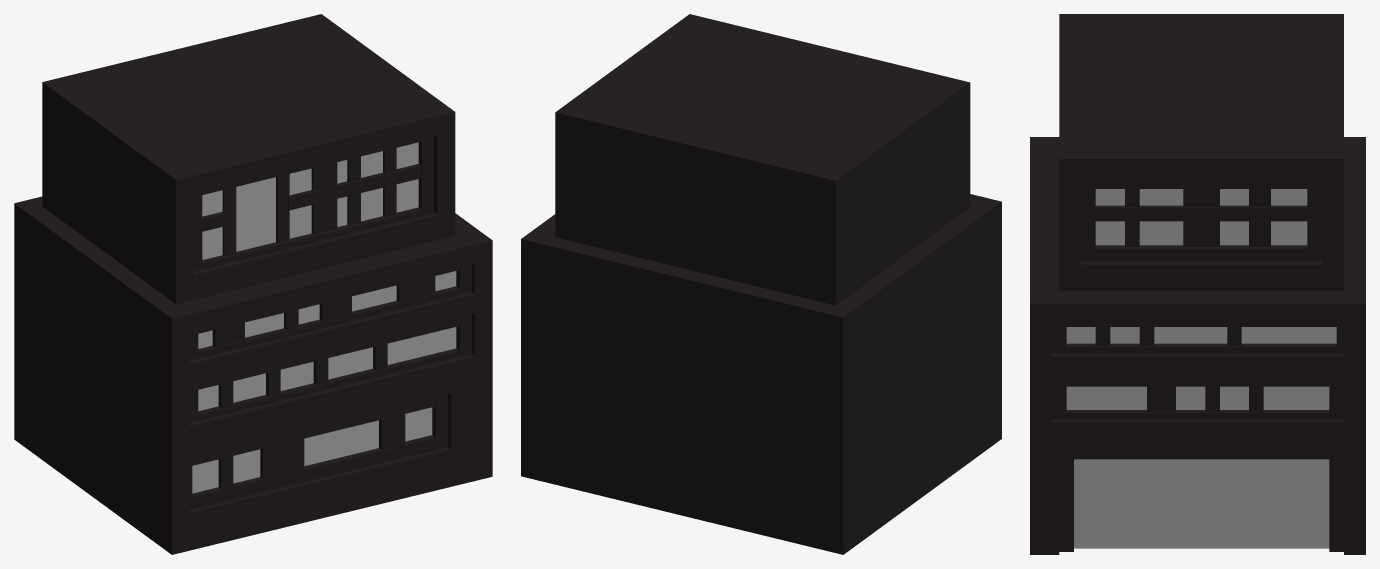
The model's file is Building_Mesh_002.fbx.
The picture shows the model from 3 angles, left to right: view 1: azimuth 30°, elevation 25°; view 2: azimuth 150°, elevation 25°; view 3: azimuth 270°, elevation 25°; orthographic projection. The views are drawn at different scales.
Visible parts, largest first — view 1: Building_002; view 2: Building_002; view 3: Building_002.
Boxes of the visible parts, <box> form: Building_002: <box>14,14,492,554</box>; Building_002: <box>521,14,1001,554</box>; Building_002: <box>1030,14,1365,554</box>.
Size of the model in its own units: 5.4 by 5.8 by 4.6.
